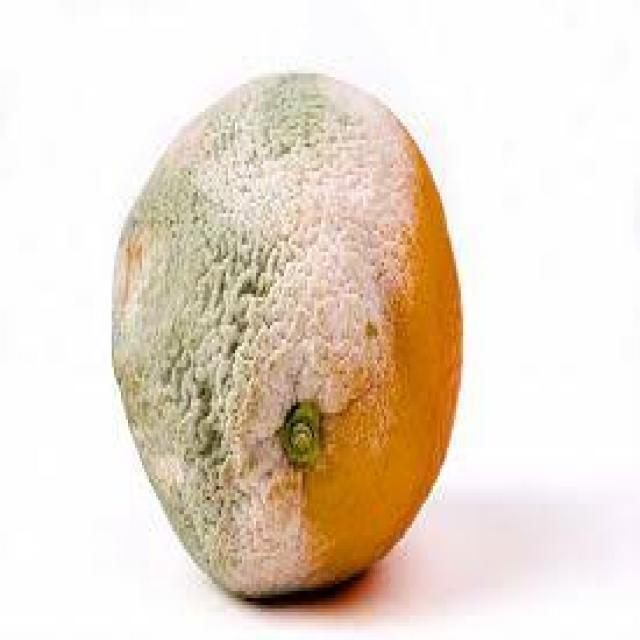Organik: (108, 70, 472, 605)
